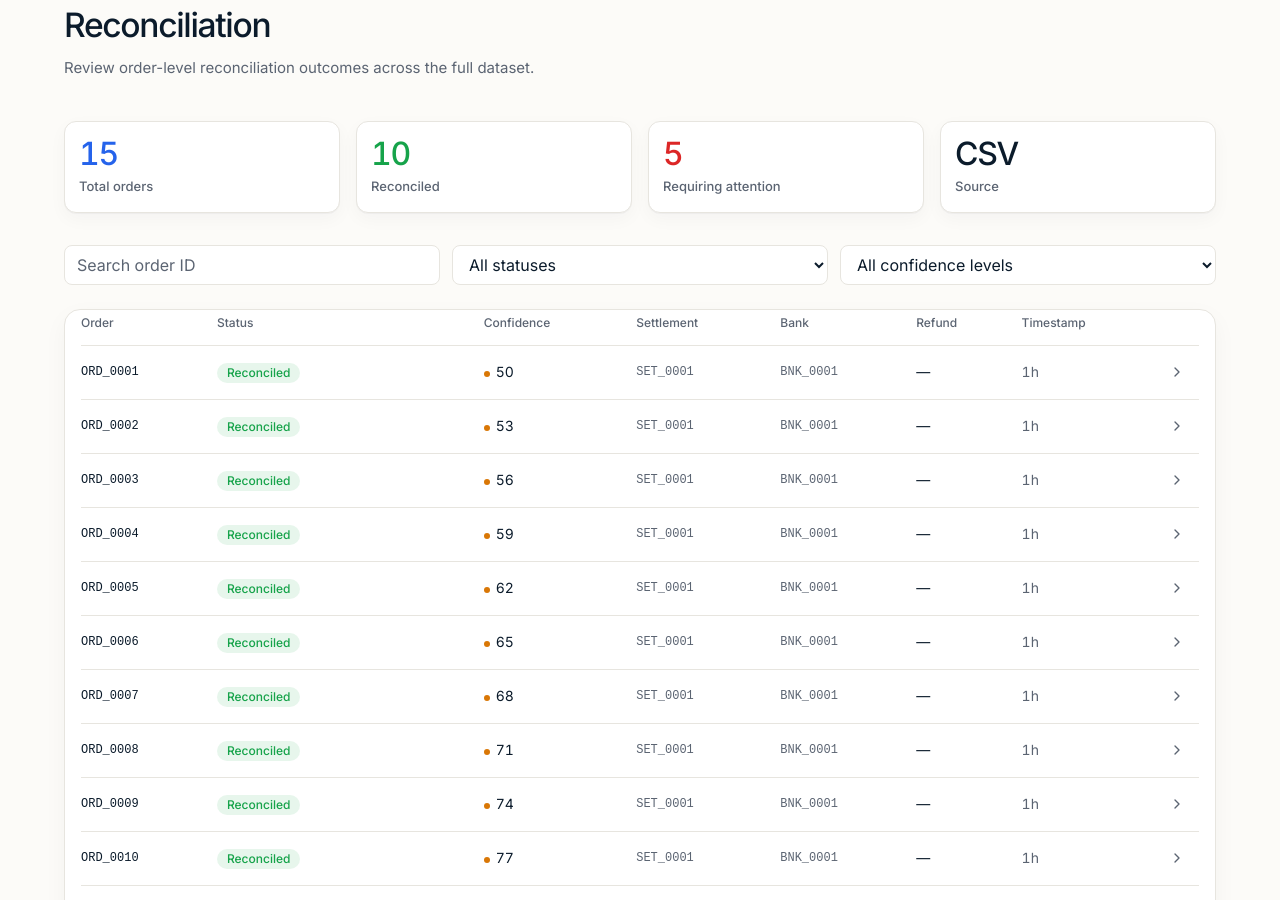
Test: frontend interactions › filters reconciliation table by search
The image size is (1280, 900).
Check: the text "ORD_0001" is shown, box [81, 345, 217, 399]
Type "ORD_0011" into the search field with placeholder "Search order ID" at (252, 265), box [64, 245, 440, 285]
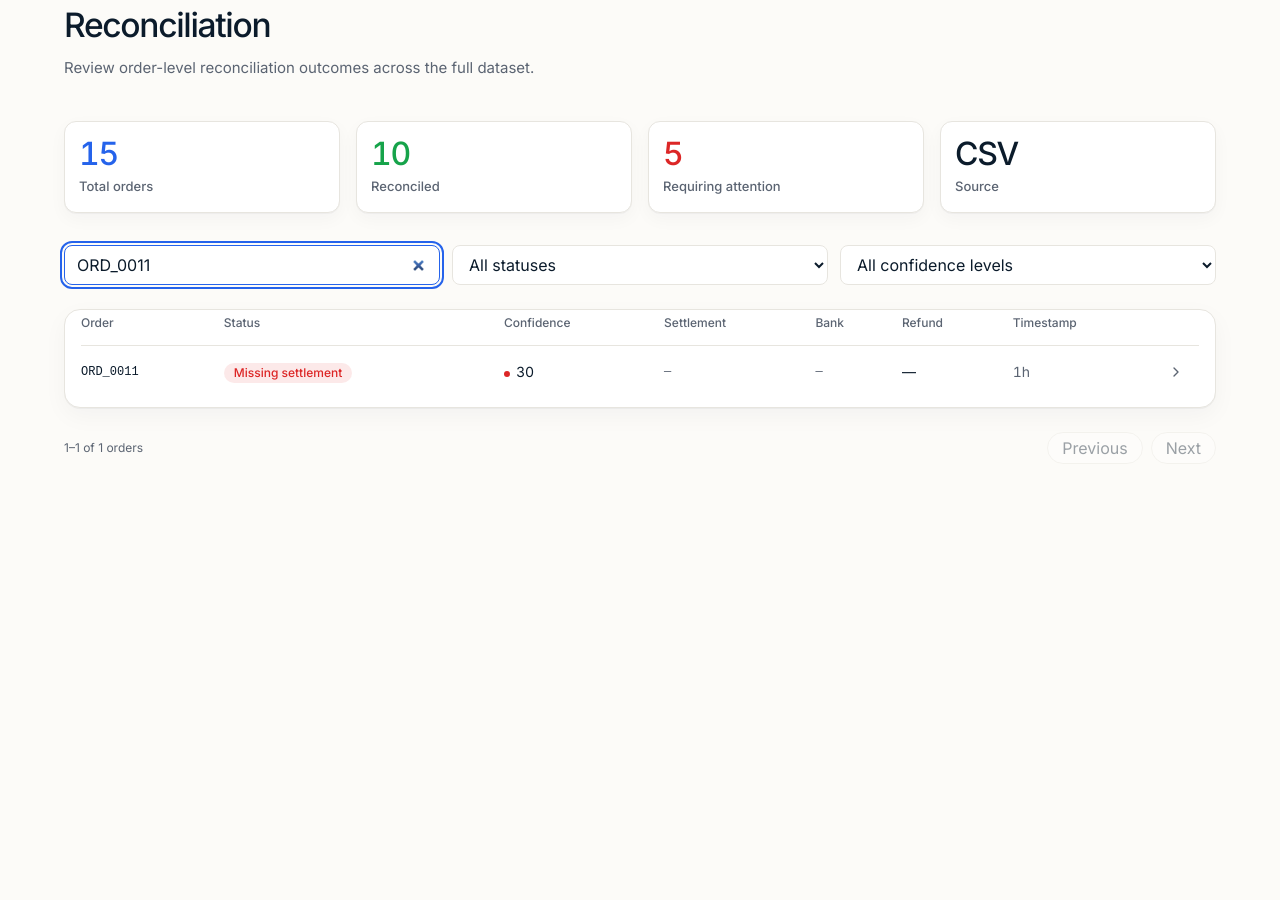
Check: the text "ORD_0011" is shown, box [81, 345, 224, 399]
Check: the button "ORD_0001" is gone
